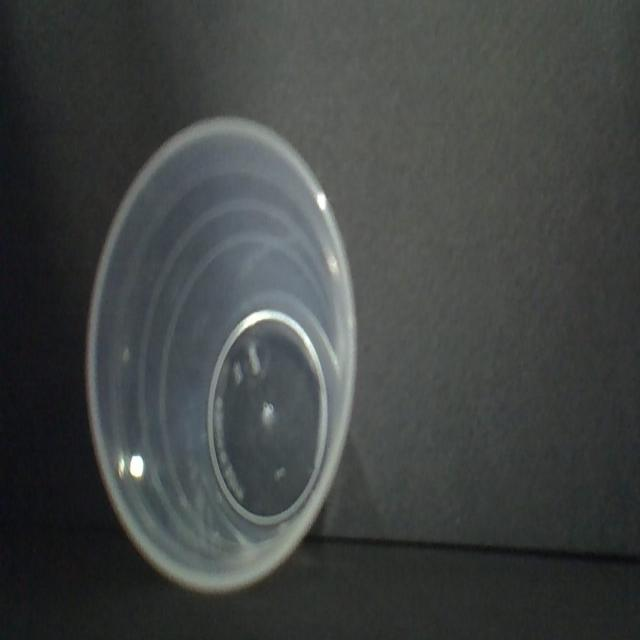cup: (87, 110, 359, 595)
